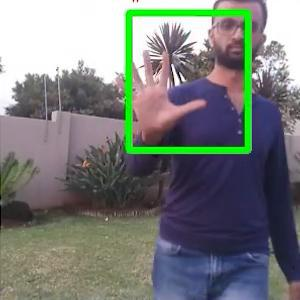follow_hand: (108, 42, 209, 139)
